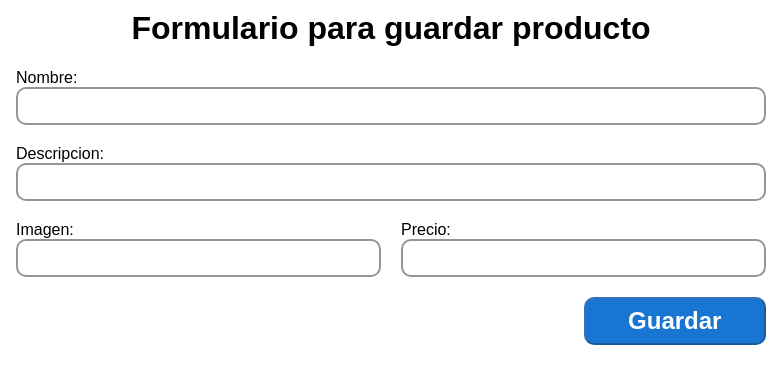
Home › Should not allow product's url different to url
The width and height of the screenshot is (783, 380).
Type "lider.cl/catalogo/images/whiteLineIcon.svg" into the field labelled "Imagen:" at (198, 258), box [16,239,381,277]
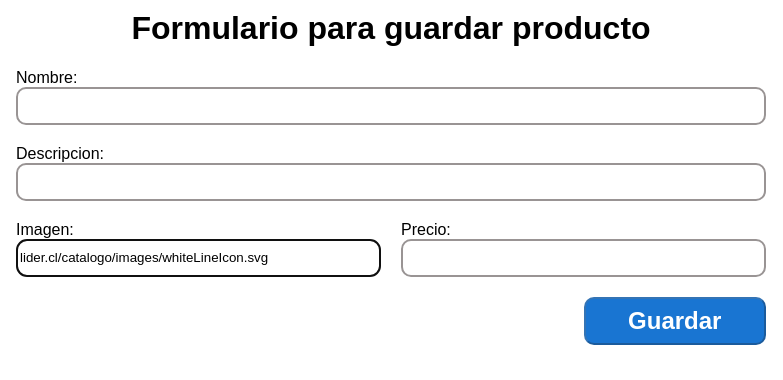
Press Tab
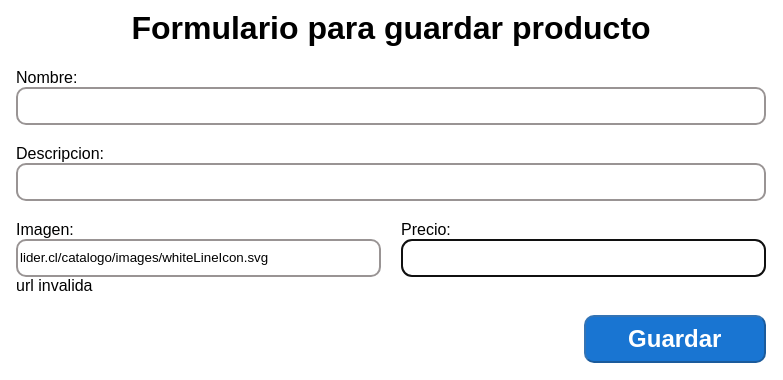
Check: the text "url invalida" is shown, box [16,277,92,294]
